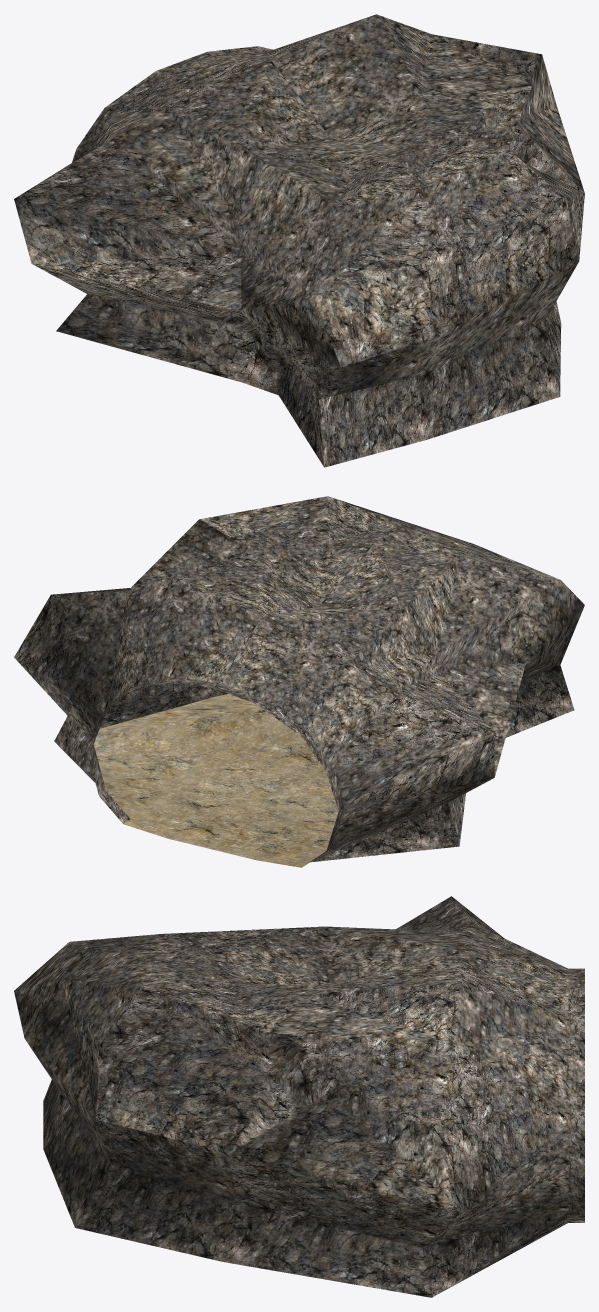
Rendered from pir_m_are_cav_deadend200.fbx.
3 renders of one model, top to bottom at view 1: azimuth 30°, elevation 25°; view 2: azimuth 150°, elevation 25°; view 3: azimuth 270°, elevation 25°, orthographic. The views are drawn at different scales.
Visible parts, largest first — view 1: standardDeadEnd_wall; view 2: standardDeadEnd_wall, standardDeadEnd_floor; view 3: standardDeadEnd_wall.
Part boxes in pixels (x1=…): standardDeadEnd_wall: x1=14, y1=14, x2=584, y2=467; standardDeadEnd_wall: x1=14, y1=496, x2=584, y2=865; standardDeadEnd_floor: x1=93, y1=694, x2=338, y2=867; standardDeadEnd_wall: x1=14, y1=896, x2=584, y2=1297.
Size of the model in its own units: 18901 by 8188 by 16795.
Materials: 2 (2 with a texture image).
